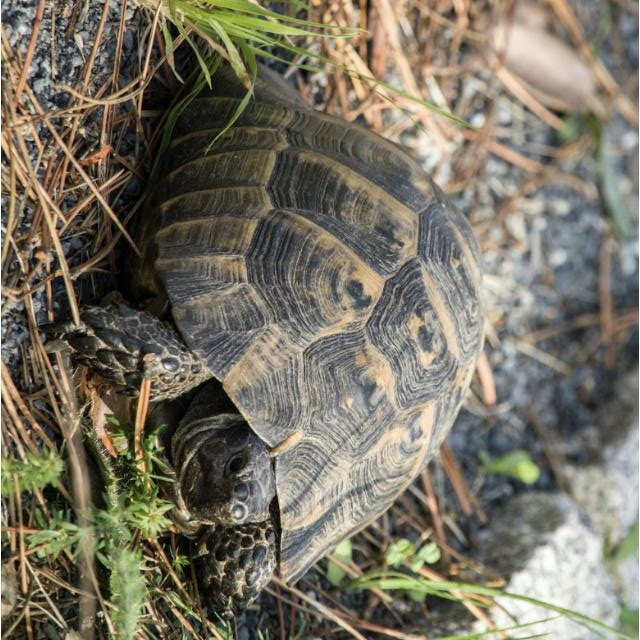turtle: (66, 48, 486, 606)
